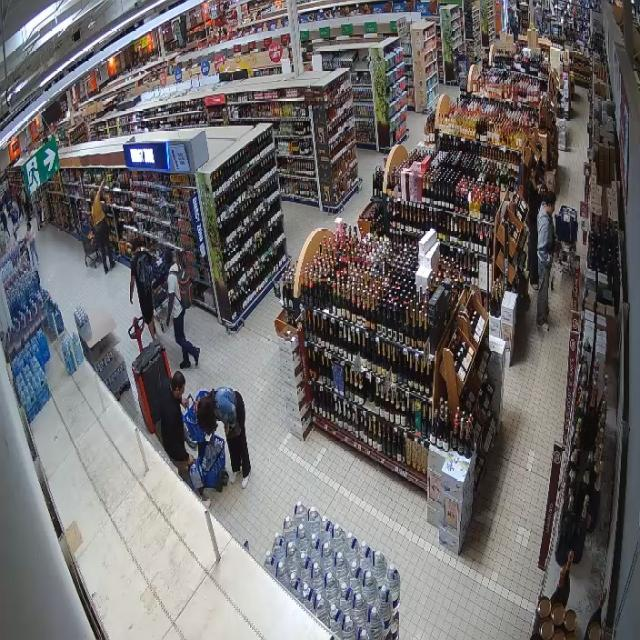article: (189, 460, 204, 490)
bags: (137, 252, 154, 293), (177, 269, 193, 308)
hands: (181, 398, 189, 409), (188, 455, 194, 465), (224, 425, 229, 436), (166, 316, 171, 327), (130, 297, 133, 304)
person: (197, 388, 250, 488), (165, 248, 199, 368), (160, 371, 193, 485), (537, 193, 556, 331), (130, 238, 155, 340), (90, 179, 115, 273), (528, 184, 540, 291)
